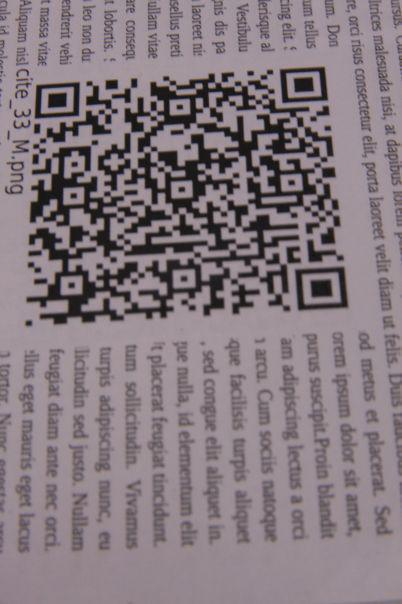qr_code: (25, 66, 349, 327)
